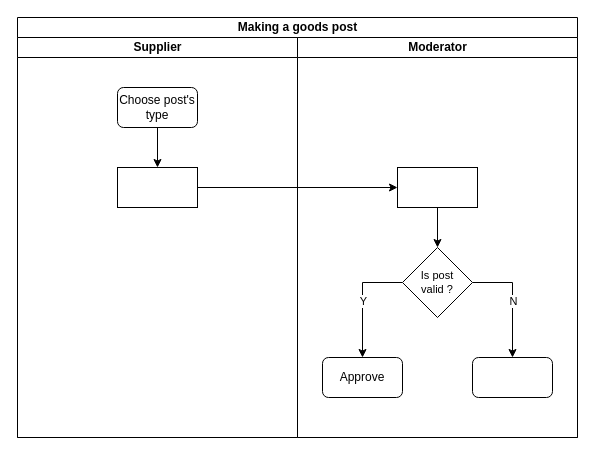
The diagram is 595 pixels wide and 455 high, and some of its shapes have lost their labels. The box of each missing label's shape, as (x1, y1, x2, y2) in pixels:
Compose post content: (116, 166, 198, 208)
Reject: (472, 356, 552, 398)
Review the post: (396, 166, 478, 208)
